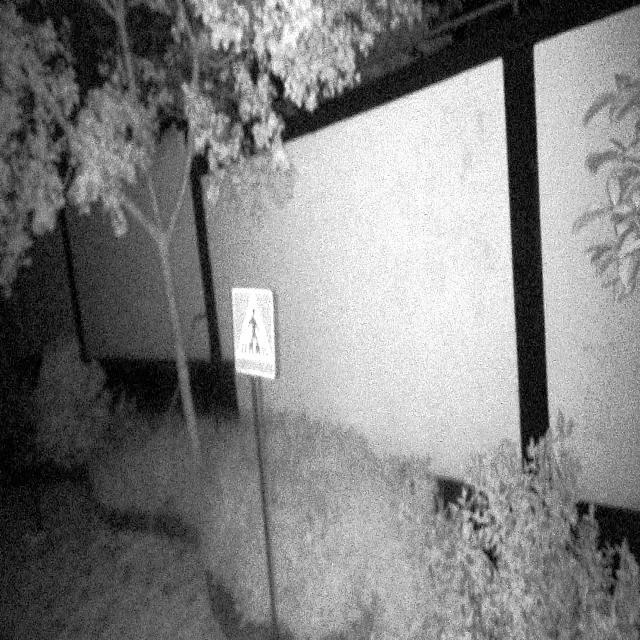Sign: (230, 283, 278, 383)
Tree: (46, 0, 216, 472)
